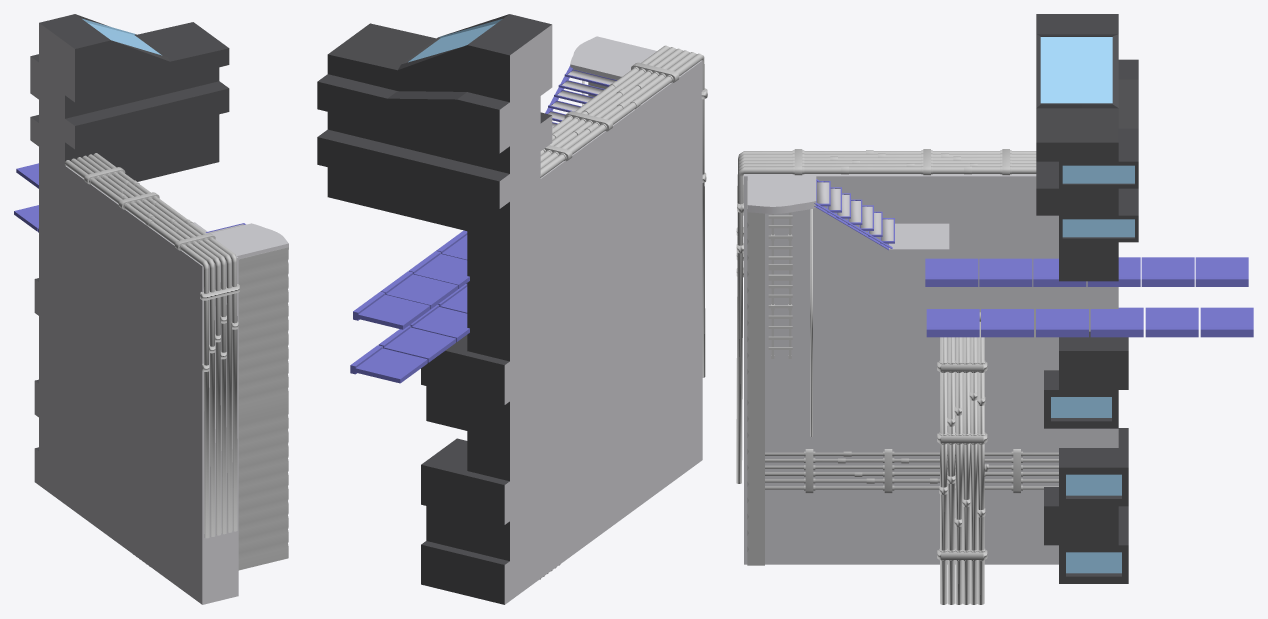
The model's file is Steps10.fbx.
The picture shows the model from 3 angles, left to right: view 1: azimuth 30°, elevation 25°; view 2: azimuth 150°, elevation 25°; view 3: azimuth 270°, elevation 25°; orthographic projection. The views are drawn at different scales.
Visible parts, largest first — view 1: Cube.019, Cube.001; view 2: Cube.019, Cube.001; view 3: Cube.019, Cube.001.
Part boxes in pixels (<box>): Cube.019: <box>14,14,288,604</box>; Cube.001: <box>64,153,239,566</box>; Cube.019: <box>317,14,702,604</box>; Cube.001: <box>539,45,707,579</box>; Cube.019: <box>744,14,1253,583</box>; Cube.001: <box>736,149,1058,604</box>.
Bounding box in the file's own units: 909 × 2752 × 2269.
